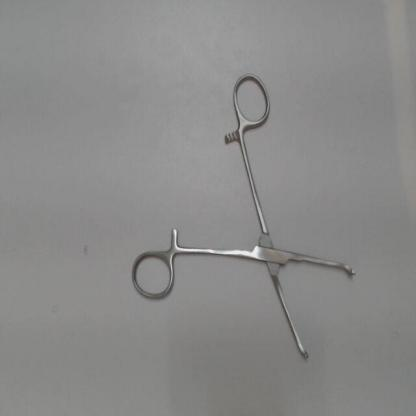Allis Tissue Forceps: (124, 66, 369, 375)
